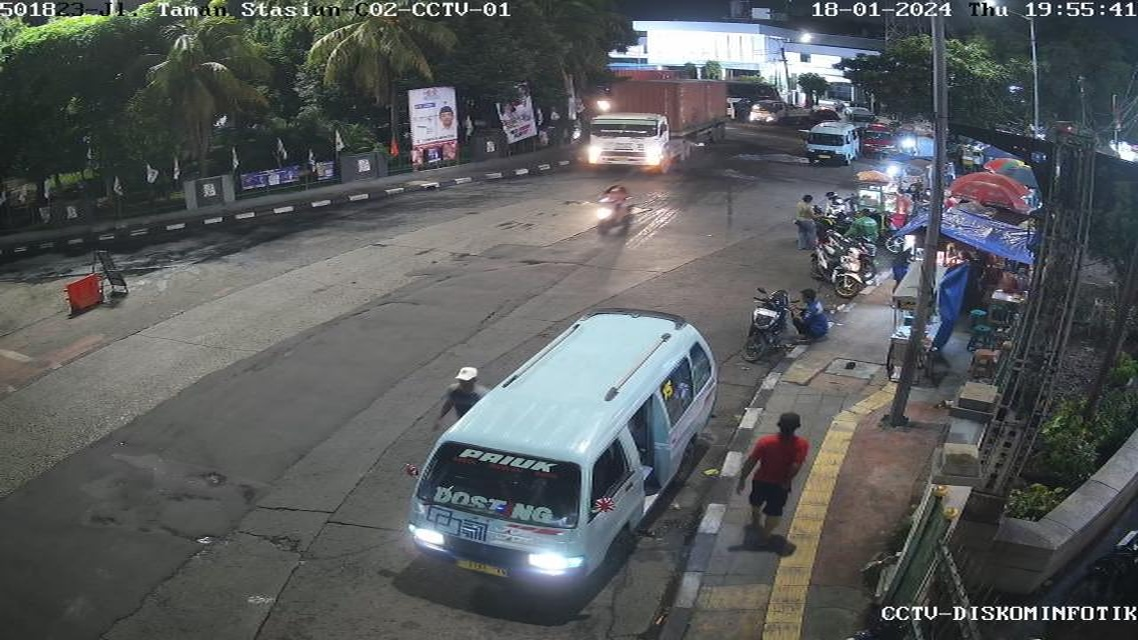Gerobak: (893, 256, 937, 385), (850, 176, 894, 225), (962, 145, 978, 173)
